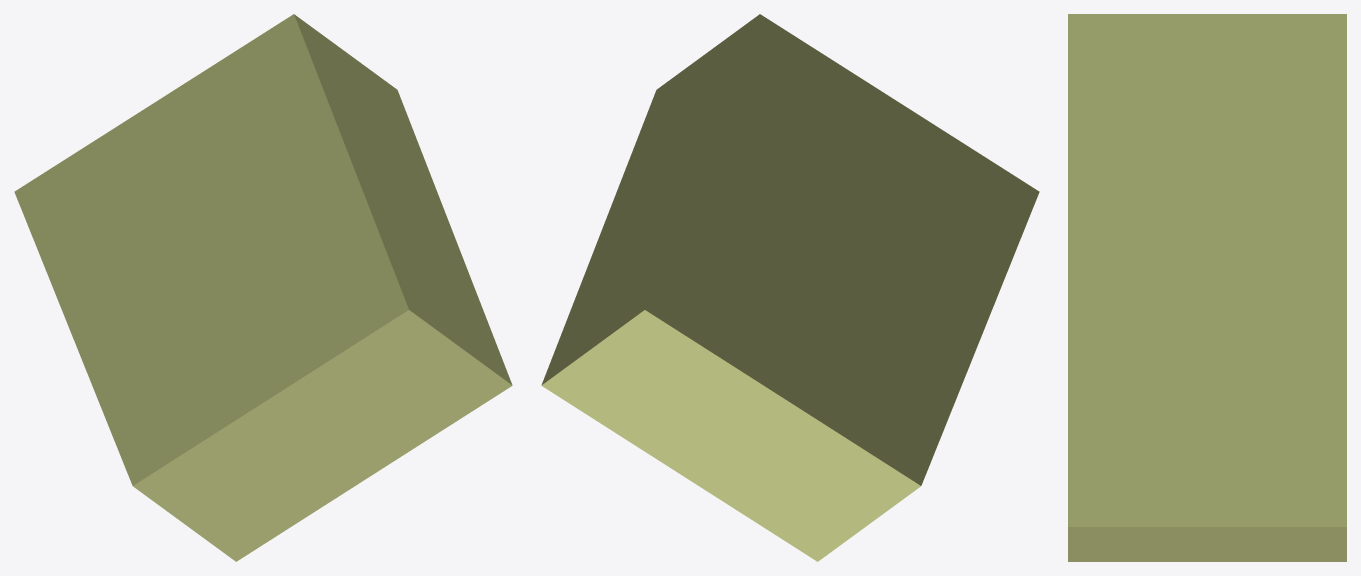
3 views of the same model, side by side, from view 1: azimuth 30°, elevation 25°; view 2: azimuth 150°, elevation 25°; view 3: azimuth 270°, elevation 25° (orthographic). The views are drawn at different scales.
Parts seen in each view (by area): view 1: 0_1_3_2_1_2_1_2_0; view 2: 0_1_3_2_1_2_1_2_0; view 3: 0_1_3_2_1_2_1_2_0.
Boxes of the visible parts, x1,y1,x2,y2 form: 0_1_3_2_1_2_1_2_0: (14,14,512,561); 0_1_3_2_1_2_1_2_0: (541,14,1039,561); 0_1_3_2_1_2_1_2_0: (1068,14,1346,561).
Size of the model in its own units: 13.2 by 13.83 by 6.
